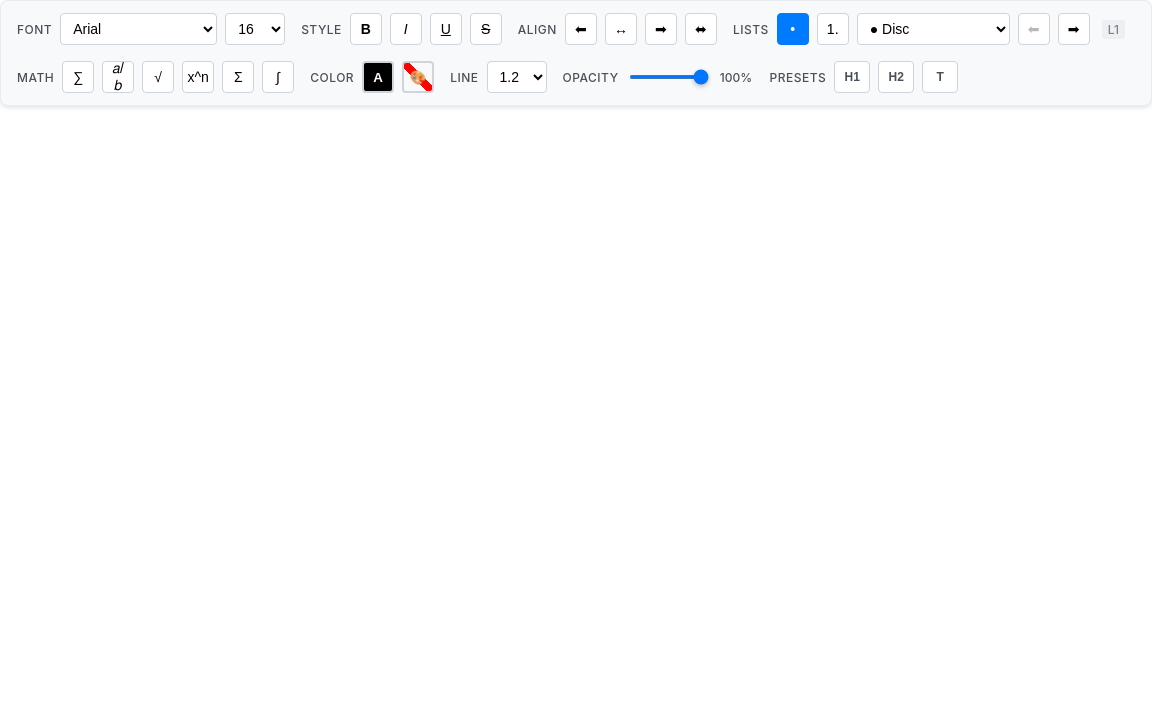
Scenario: TextFormattingToolbar - List Functionality › opens custom bullet dialog when custom is selected
Select "✦ Custom" in the dropdown titled "List Style" at (933, 29), box [857,13,1010,45]
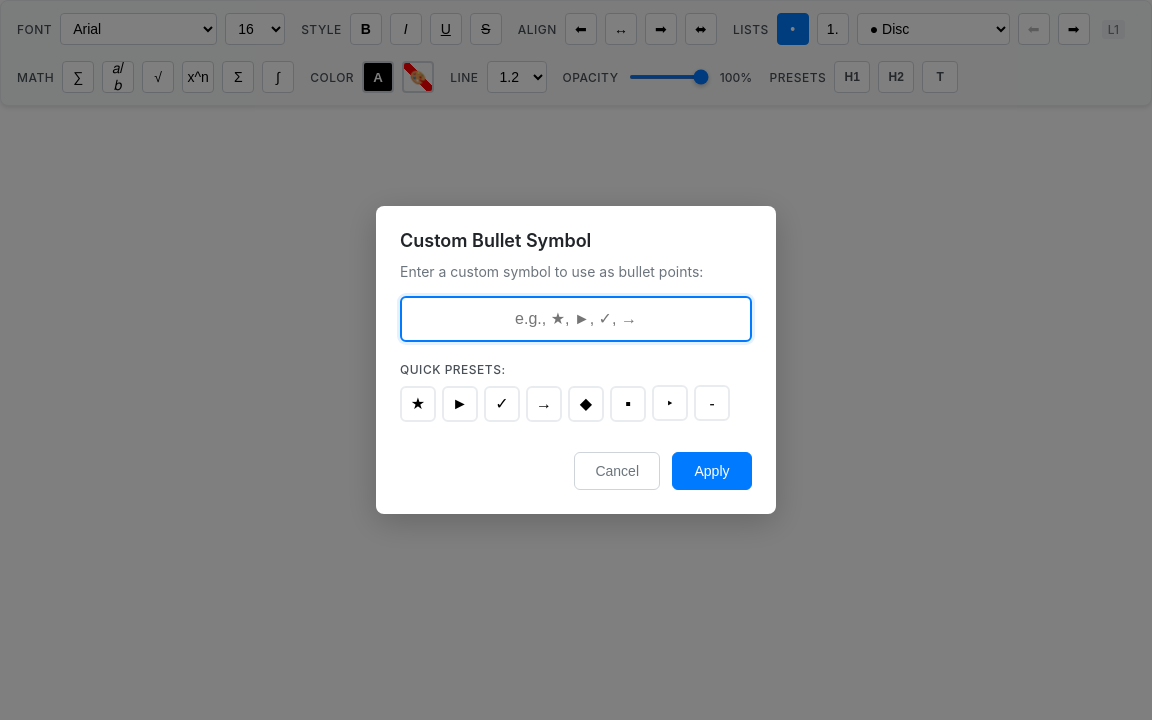
Now the heading "Custom Bullet Symbol" is shown, box [400,230,591,251]
